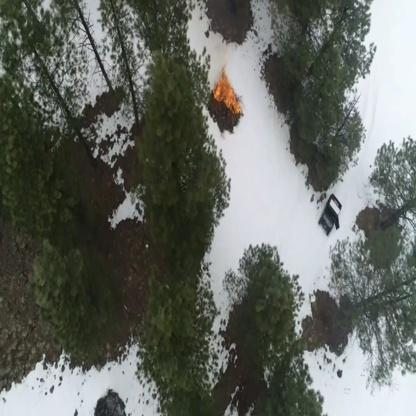Fire: (211, 65, 242, 115)
